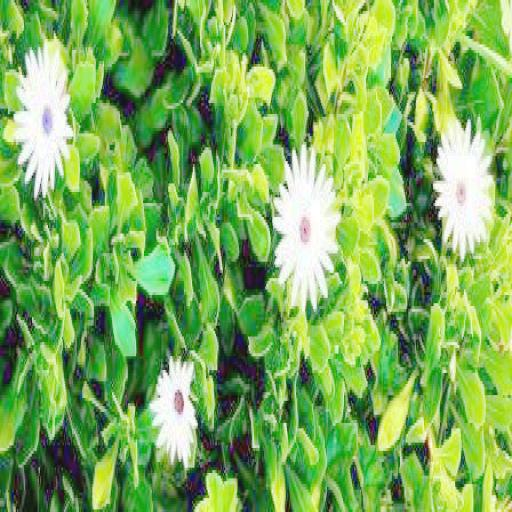daisy: (278, 148, 338, 304), (14, 53, 72, 186), (440, 128, 493, 253), (154, 356, 196, 459)
